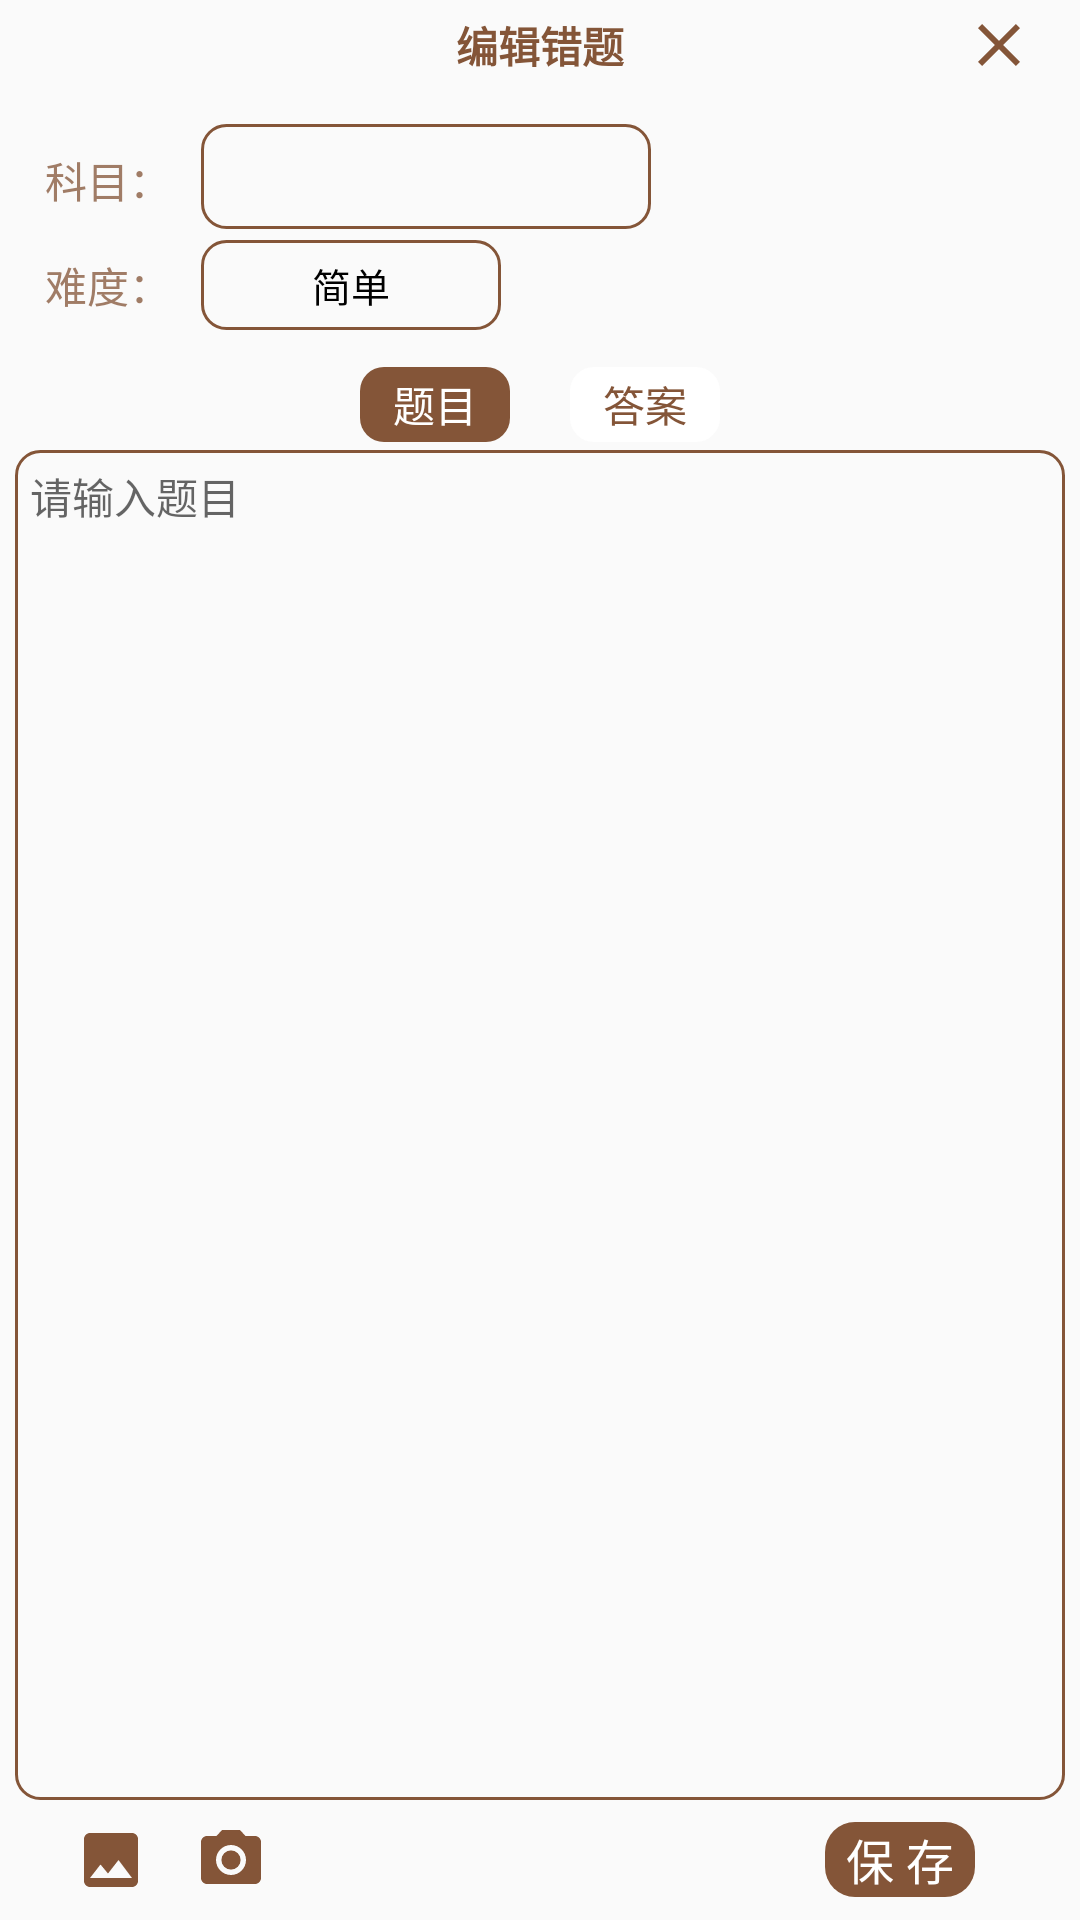

Icons on this 1080 x 1920 Android screen, each with its box as (x1, y1, x2, y2):
camera: (201, 1830, 261, 1884)
clear: (978, 24, 1020, 66)
photo: (84, 1833, 138, 1887)
